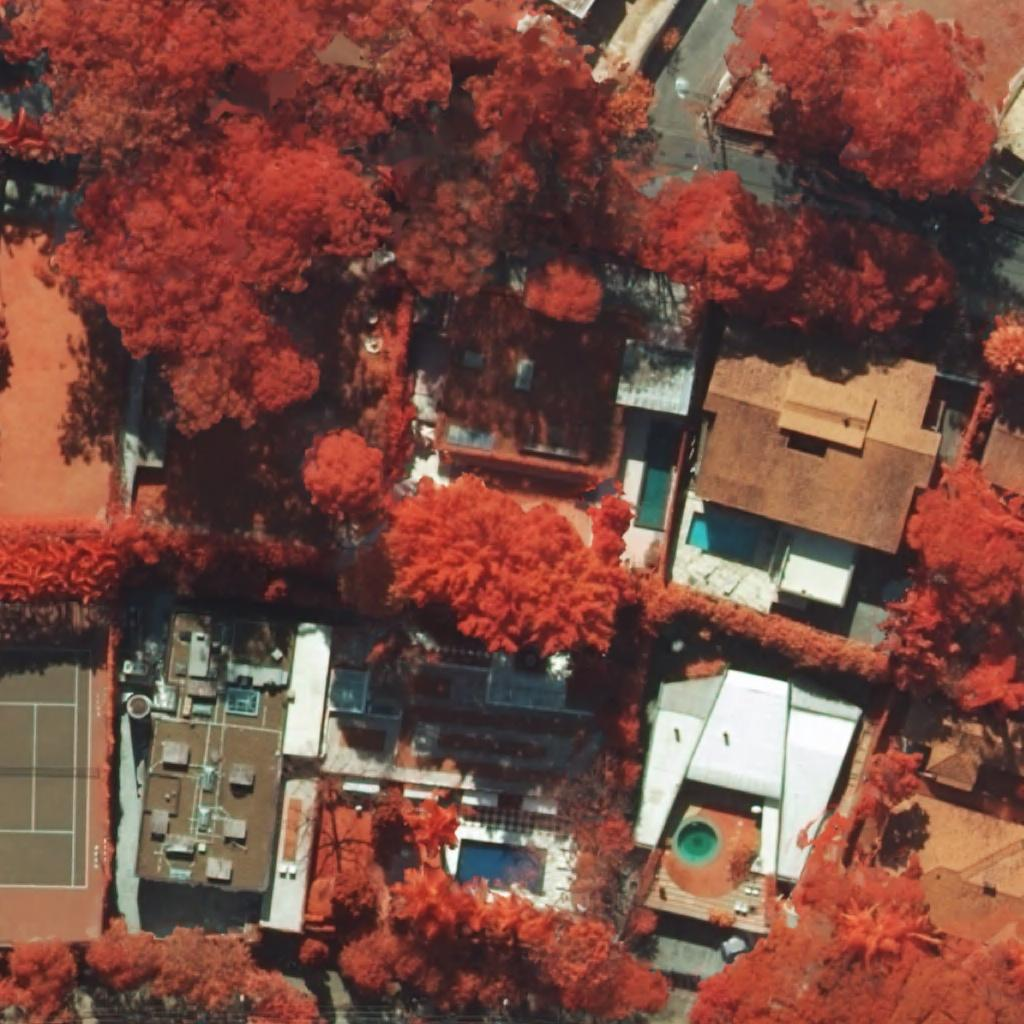pool: (634, 420, 681, 532), (455, 838, 547, 891), (686, 511, 760, 566), (677, 822, 718, 862)
